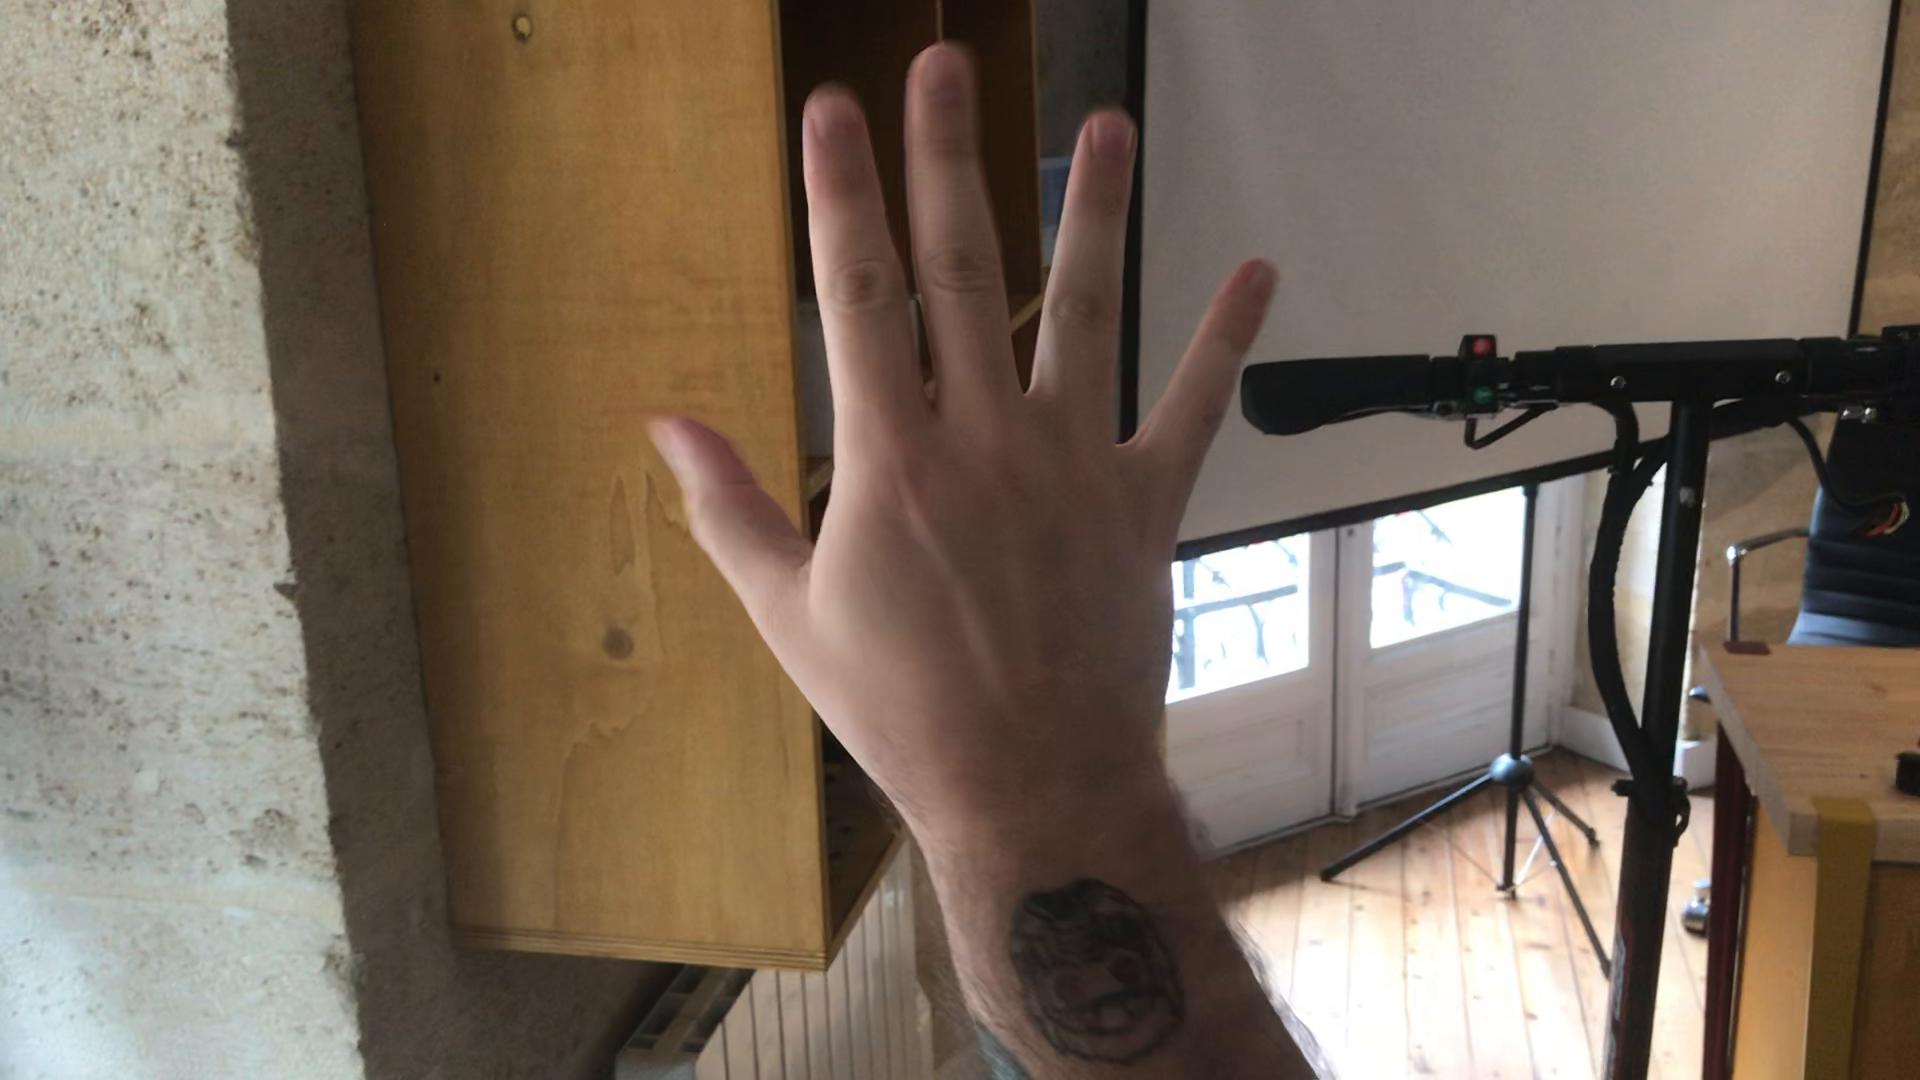hand: (638, 41, 1283, 774)
